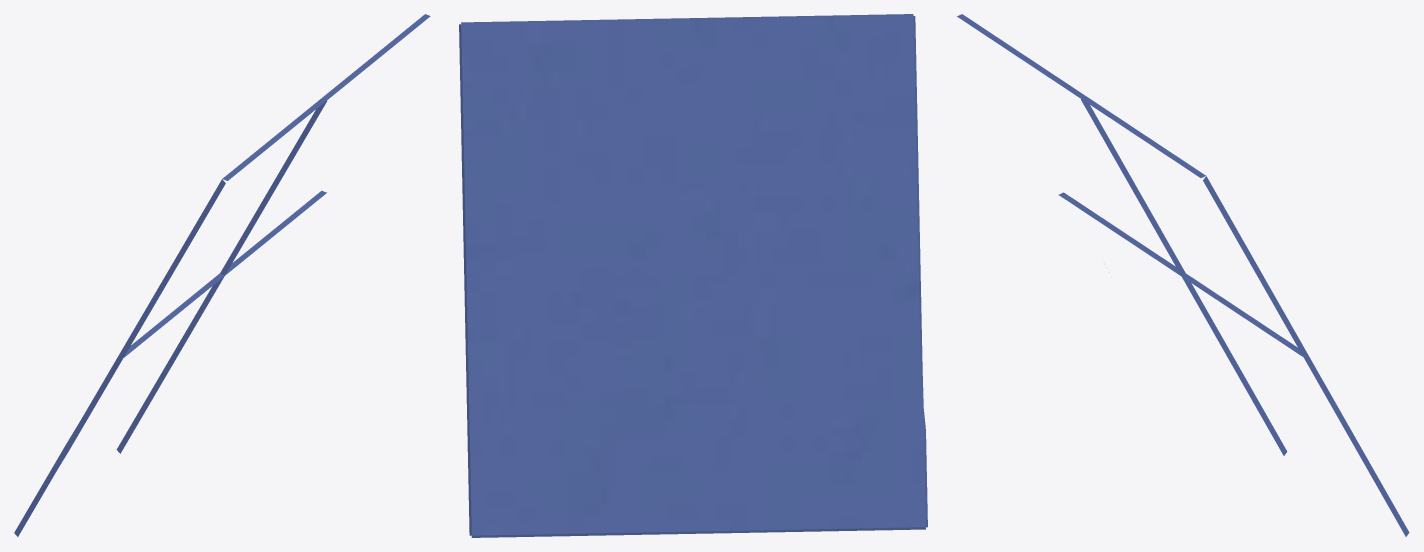
3 renders of one model, left to right at view 1: azimuth 30°, elevation 25°; view 2: azimuth 150°, elevation 25°; view 3: azimuth 270°, elevation 25°, orthographic. The views are drawn at different scales.
Size of the model in its own units: 39585 by 34996 by 34558.
Materials: 1 (1 with a texture image).
